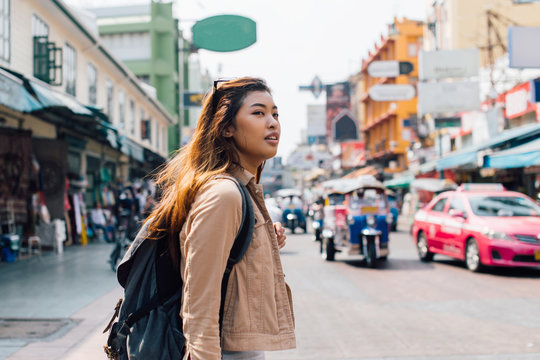face: (221, 78, 281, 157)
